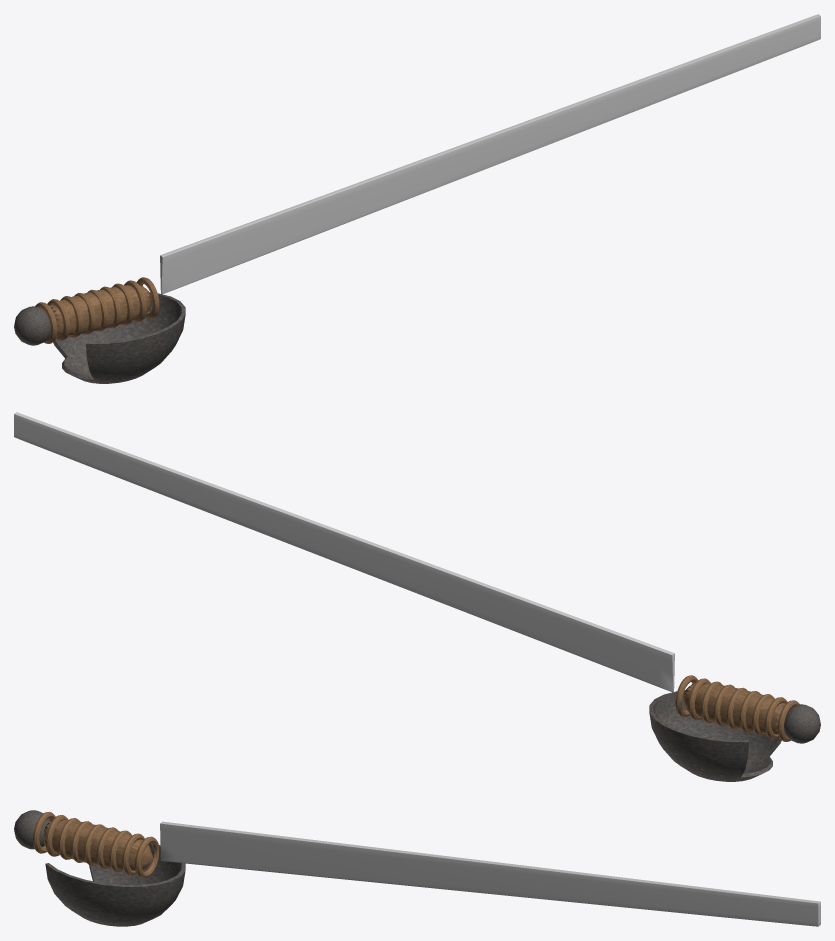
Rendered from cutlass.glb.
3 renders of one model, top to bottom at view 1: azimuth 30°, elevation 25°; view 2: azimuth 150°, elevation 25°; view 3: azimuth 330°, elevation 25°, orthographic.
Visible parts, largest first — view 1: blade, basket, handle, pommel; view 2: blade, basket, handle, pommel; view 3: blade, basket, handle, pommel, wrap8, wrap0, wrap7, wrap1, wrap6, wrap5, wrap2, wrap3 (+1 smaller).
Boxes of the visible parts, x1=… form: blade: x1=160, y1=14, x2=820, y2=294; basket: x1=53, y1=292, x2=185, y2=383; handle: x1=49, y1=285, x2=152, y2=336; pommel: x1=14, y1=306, x2=50, y2=345; blade: x1=14, y1=412, x2=674, y2=692; basket: x1=649, y1=690, x2=781, y2=781; handle: x1=682, y1=683, x2=785, y2=734; pommel: x1=784, y1=704, x2=820, y2=743; blade: x1=160, y1=821, x2=820, y2=926; basket: x1=45, y1=843, x2=185, y2=926; handle: x1=43, y1=819, x2=153, y2=871; pommel: x1=14, y1=810, x2=50, y2=849; wrap8: x1=135, y1=836, x2=159, y2=878; wrap0: x1=32, y1=811, x2=55, y2=853; wrap7: x1=122, y1=833, x2=144, y2=875; wrap1: x1=45, y1=815, x2=67, y2=856; wrap6: x1=109, y1=830, x2=131, y2=872; wrap5: x1=96, y1=827, x2=118, y2=869; wrap2: x1=58, y1=818, x2=79, y2=859; wrap3: x1=71, y1=821, x2=91, y2=862.
Size of the model in its own units: 0.756 by 0.1722 by 0.0935.
1 material, 1 textured.
